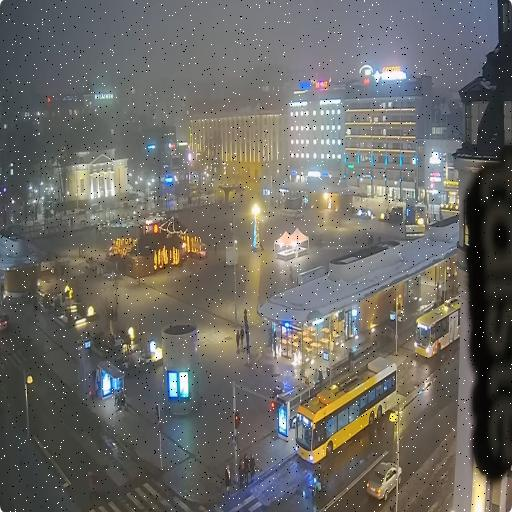Bus: (295, 357, 396, 462), (414, 296, 460, 356)
